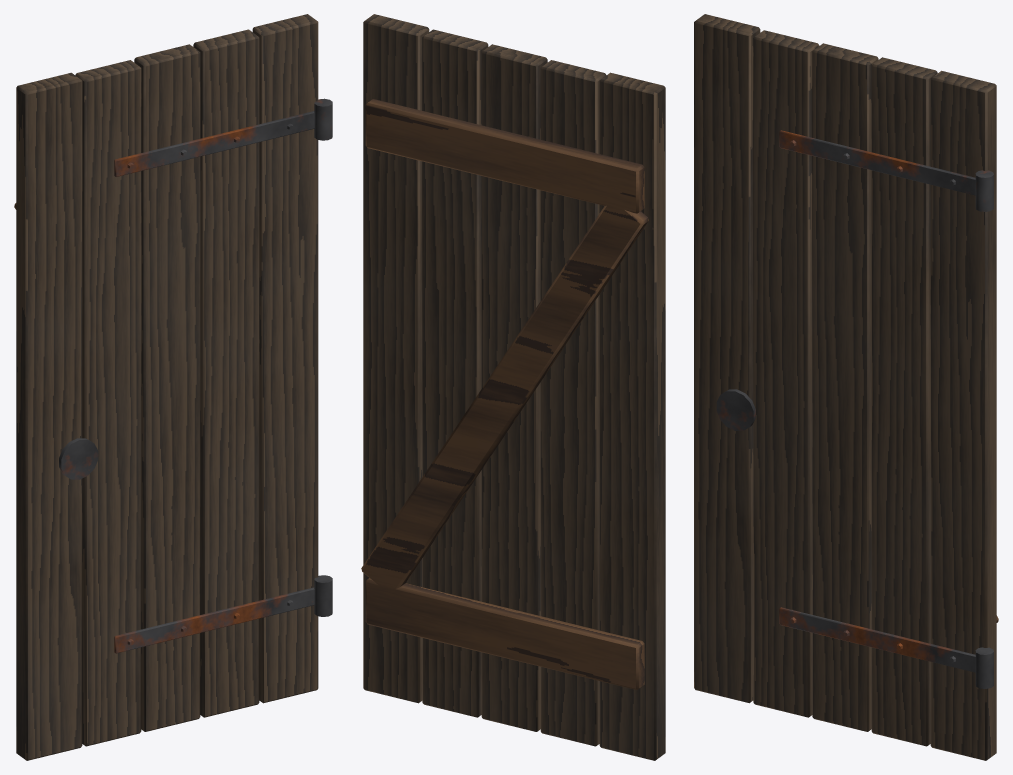
File: SM_Door_R.glb
3 renders of one model, left to right at view 1: azimuth 30°, elevation 25°; view 2: azimuth 150°, elevation 25°; view 3: azimuth 330°, elevation 25°, orthographic.
Visible parts, largest first — view 1: SM_Door_R; view 2: SM_Door_R; view 3: SM_Door_R.
Part boxes in pixels (x1,y1,x2,y2): SM_Door_R: (14, 14, 332, 760); SM_Door_R: (361, 14, 665, 760); SM_Door_R: (694, 14, 998, 760).
Size of the model in its own units: 1.11 by 2.36 by 0.17.
Materials: 1 (1 with a texture image).
